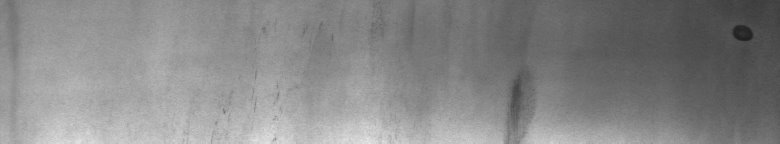fi: (725, 19, 759, 48)
